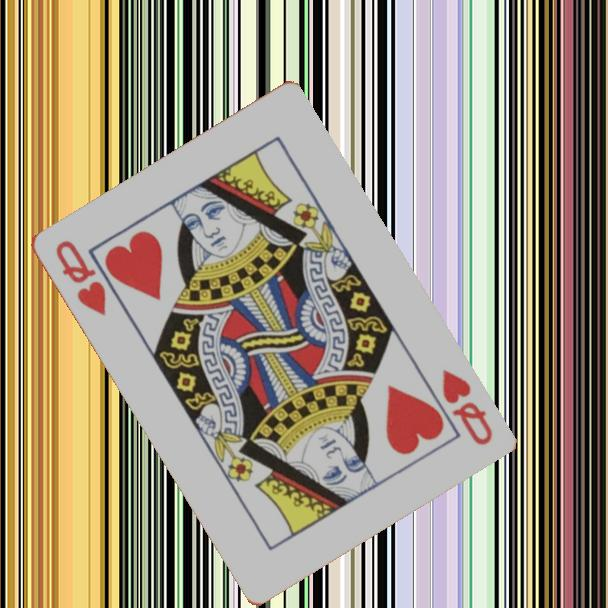h12: (51, 236, 109, 319), (437, 366, 495, 449)
